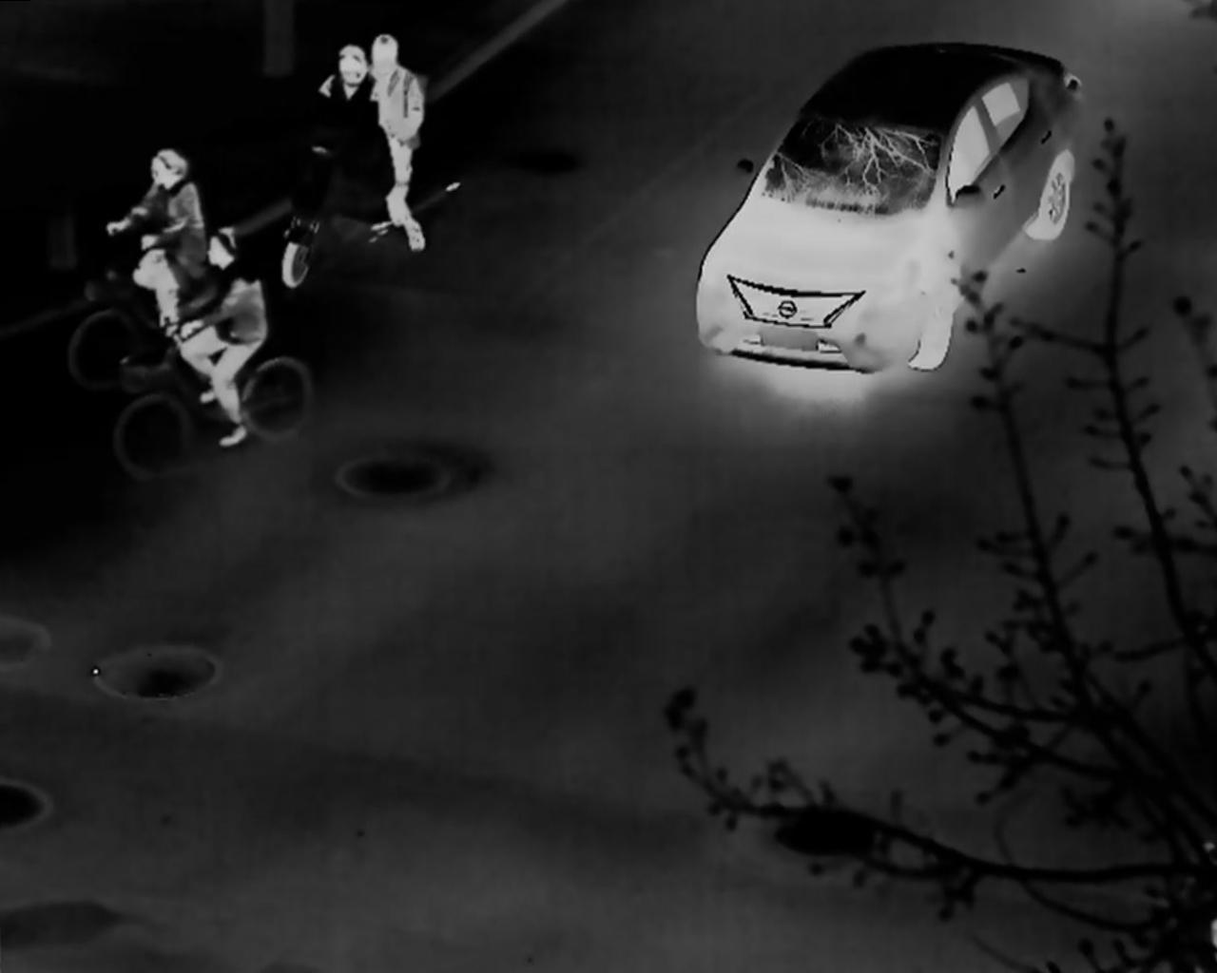person: (182, 222, 268, 446), (105, 148, 204, 322), (368, 30, 427, 254), (314, 46, 381, 105)
